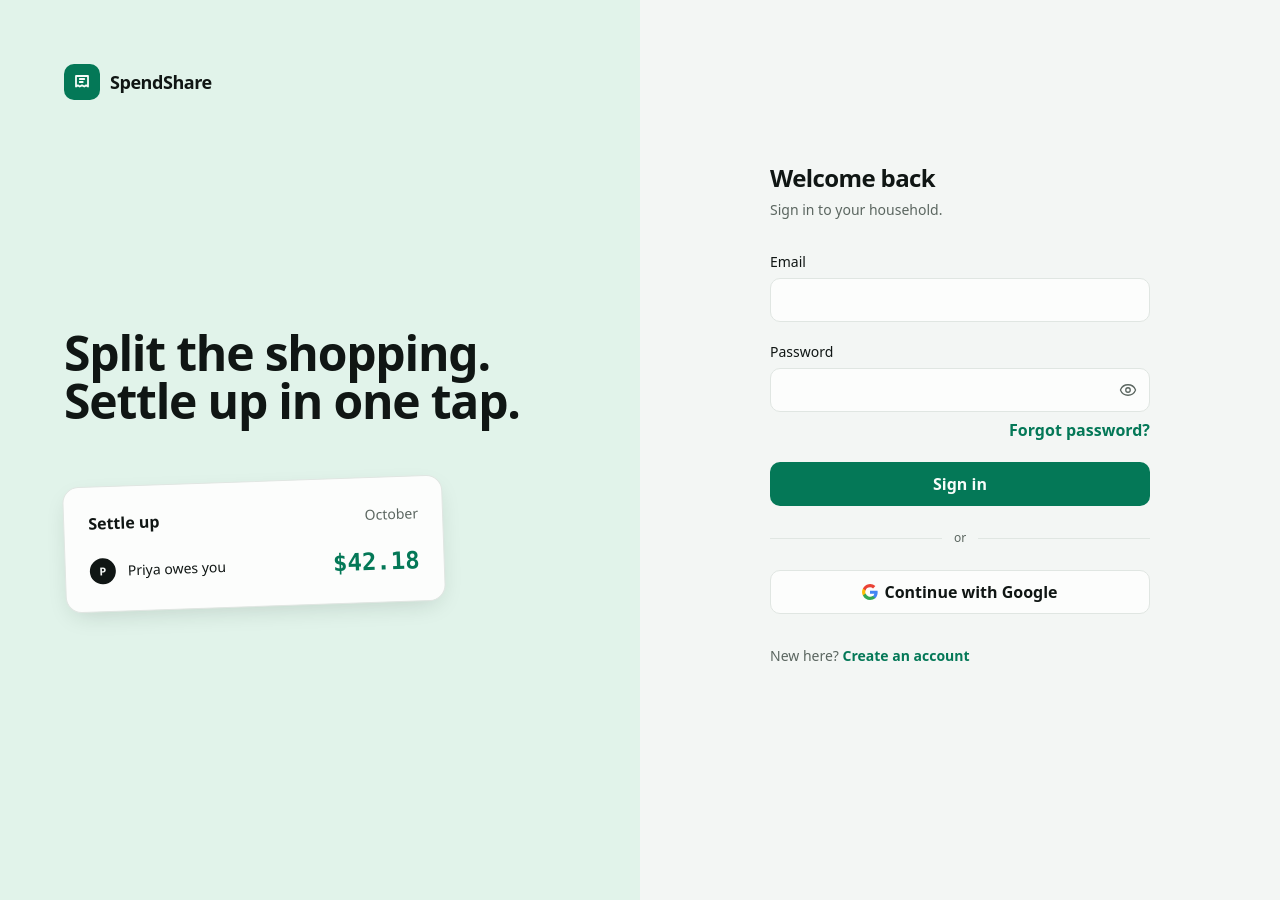
Test: SignIn › sign in mode › shows a plain-English message instead of the raw Firebase error
Type "alice@example.com" into the field labelled "Email" at (960, 300), box x1=770 y1=278 x2=1150 y2=322
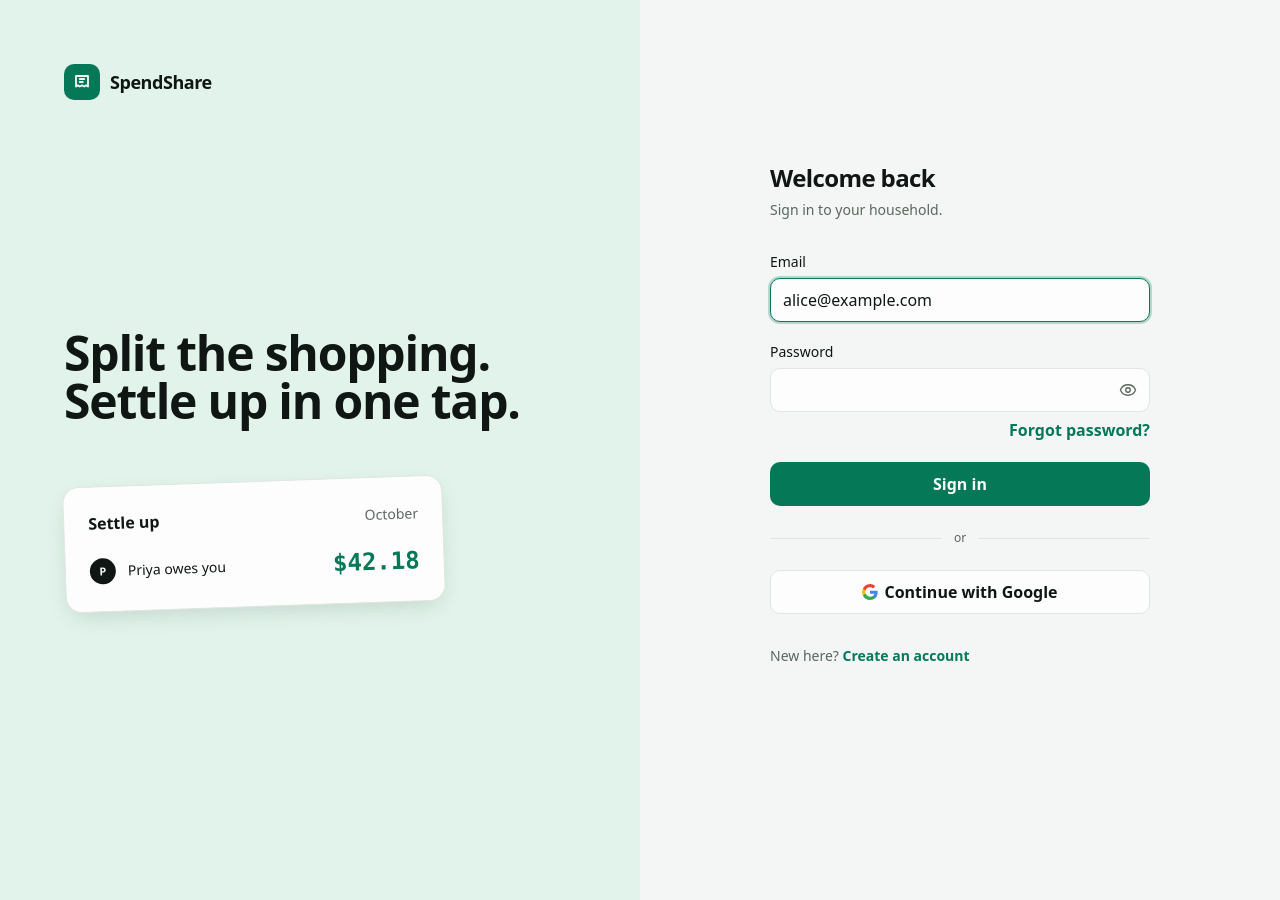
Type "wrong" into the password field labelled "Password" at (960, 390), box x1=770 y1=368 x2=1150 y2=412
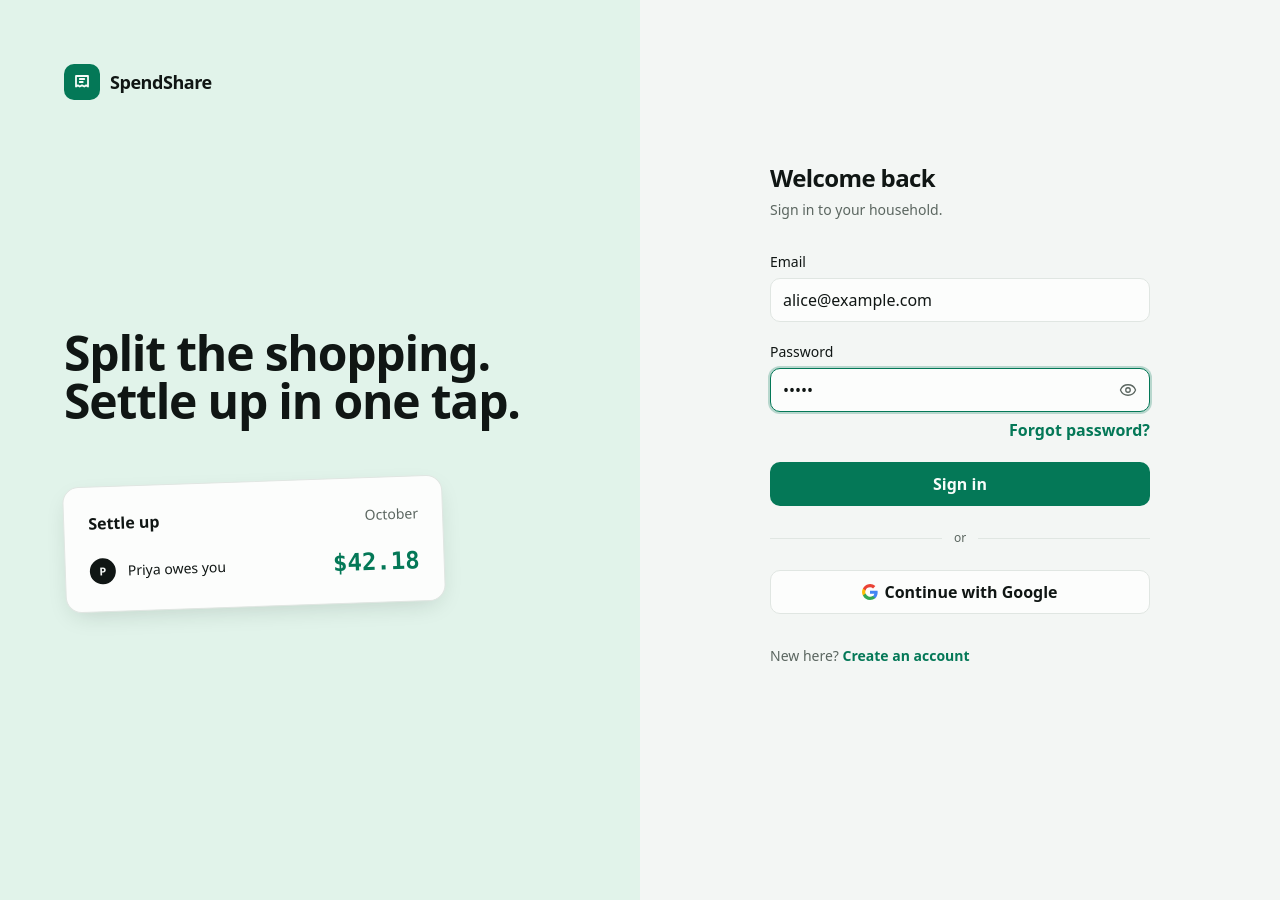
Click the button "Sign in" at (960, 484), box x1=770 y1=462 x2=1150 y2=506
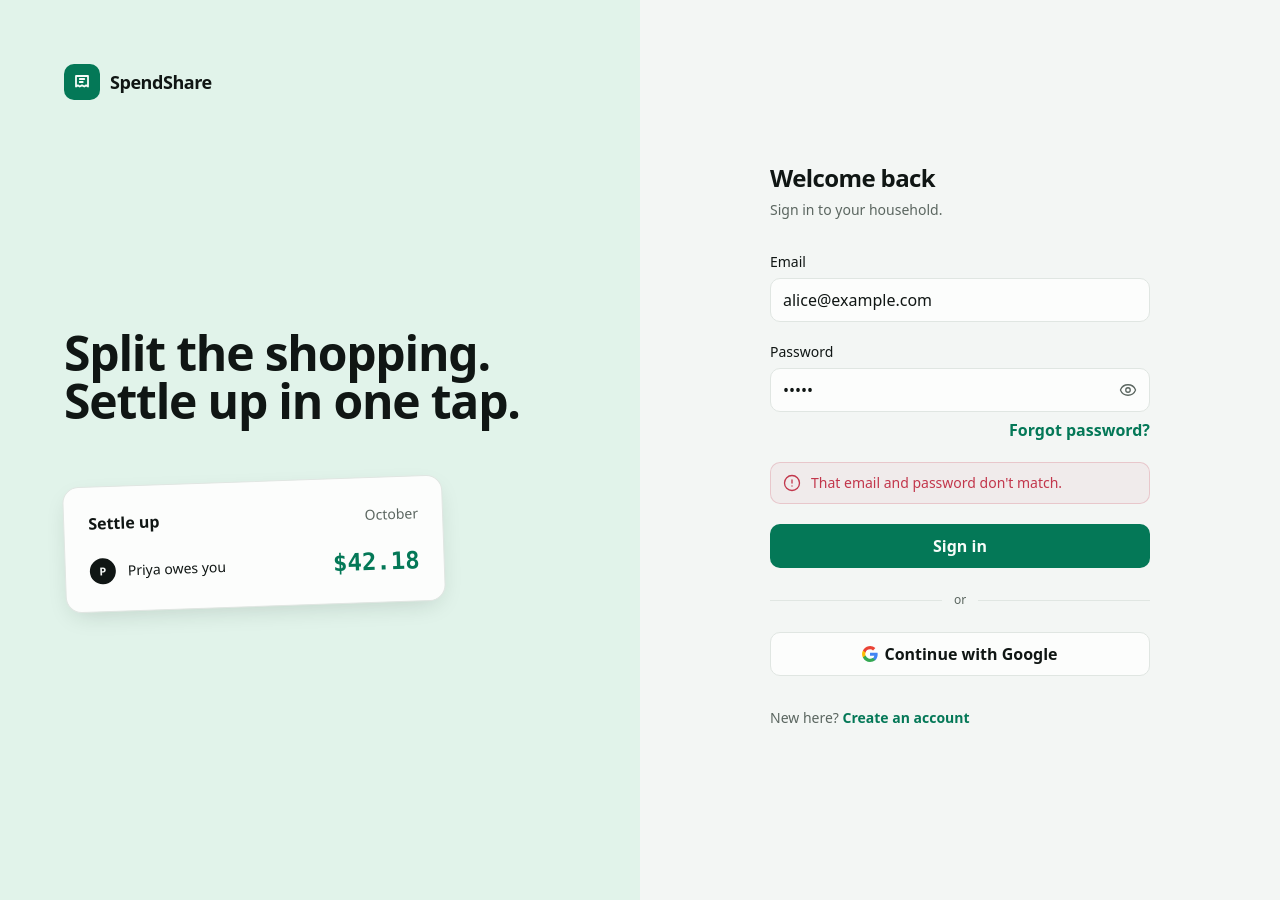
expect the message reads "That email and password don't match.": met, box x1=811 y1=473 x2=1062 y2=492
